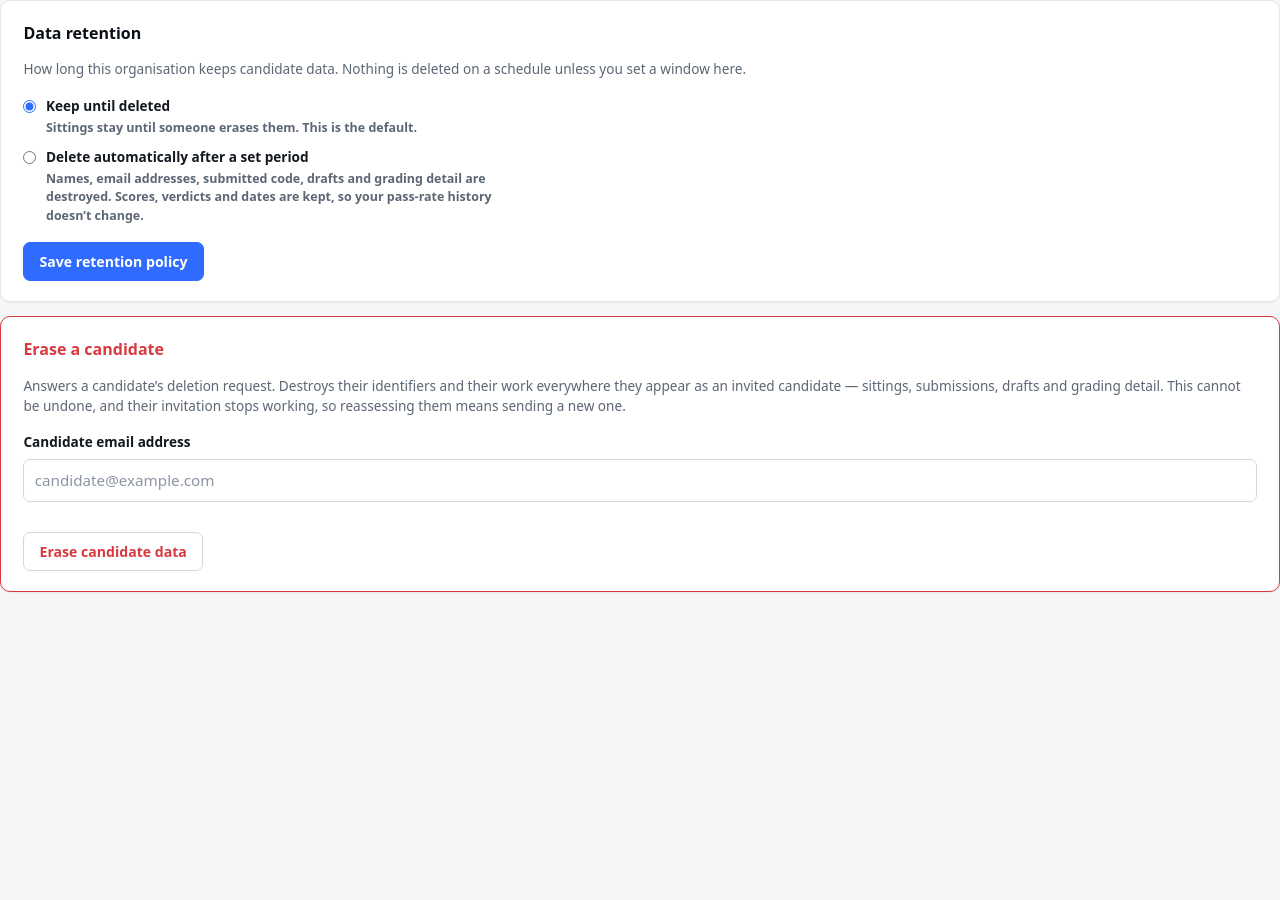
it: retention › refuses a window of zero before the round trip
Click the radio button labelled "Delete automatically".
click(30, 157)  # box [23,151,36,164]
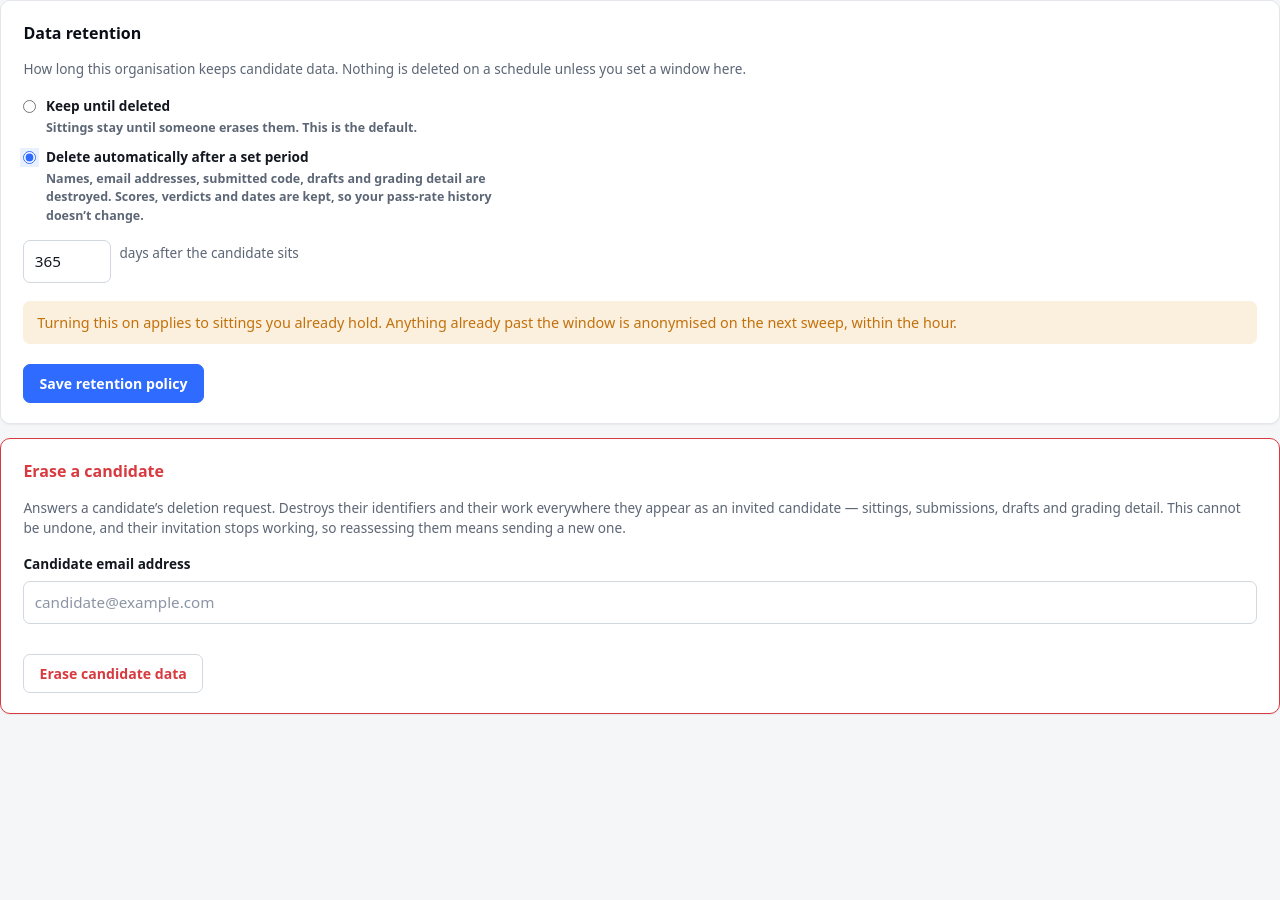
Replace the text in the number field named "retention period in days" with "0" at (67, 261), box [23,240,111,283]
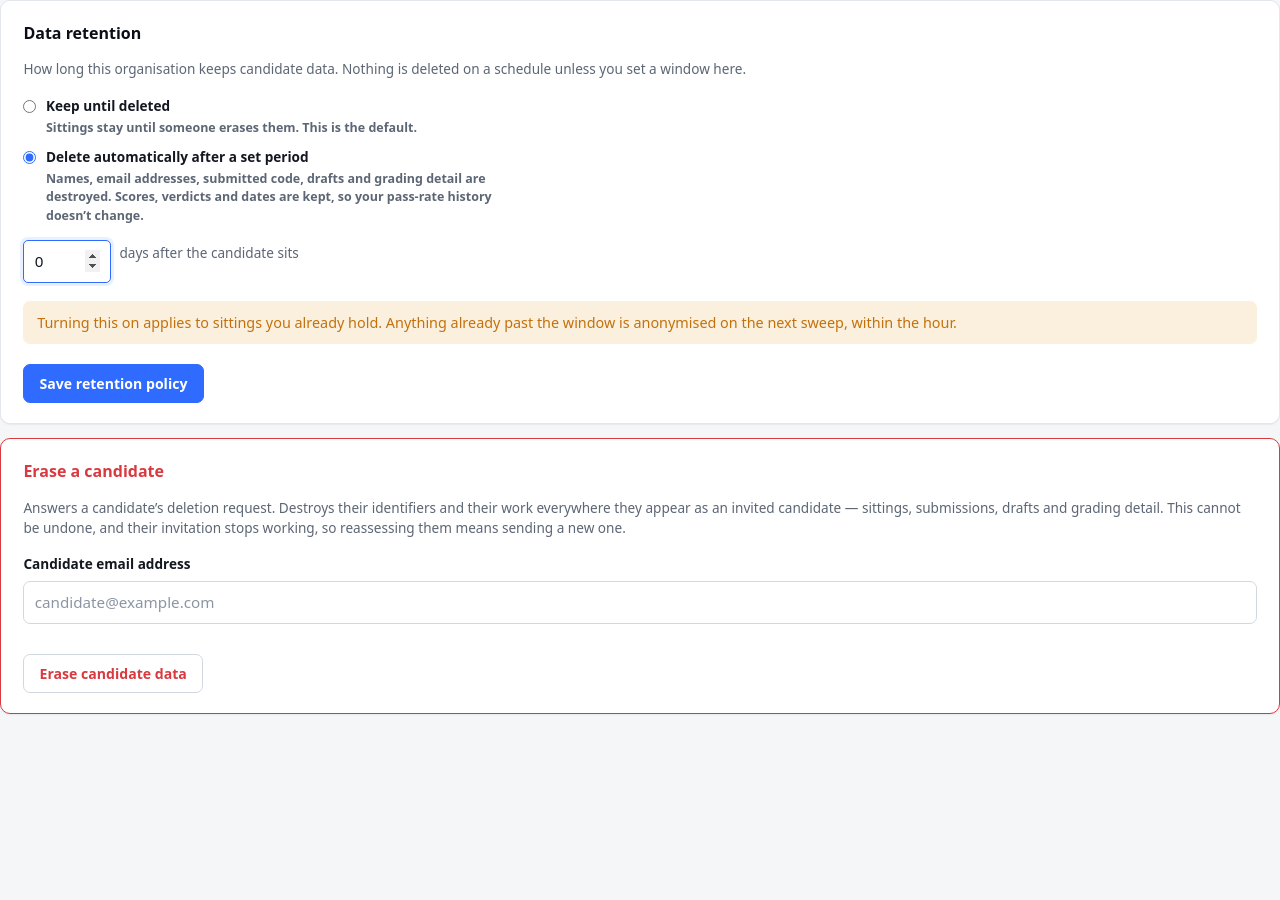
Click the button "Save retention policy".
click(114, 383)  # box [23,364,204,403]
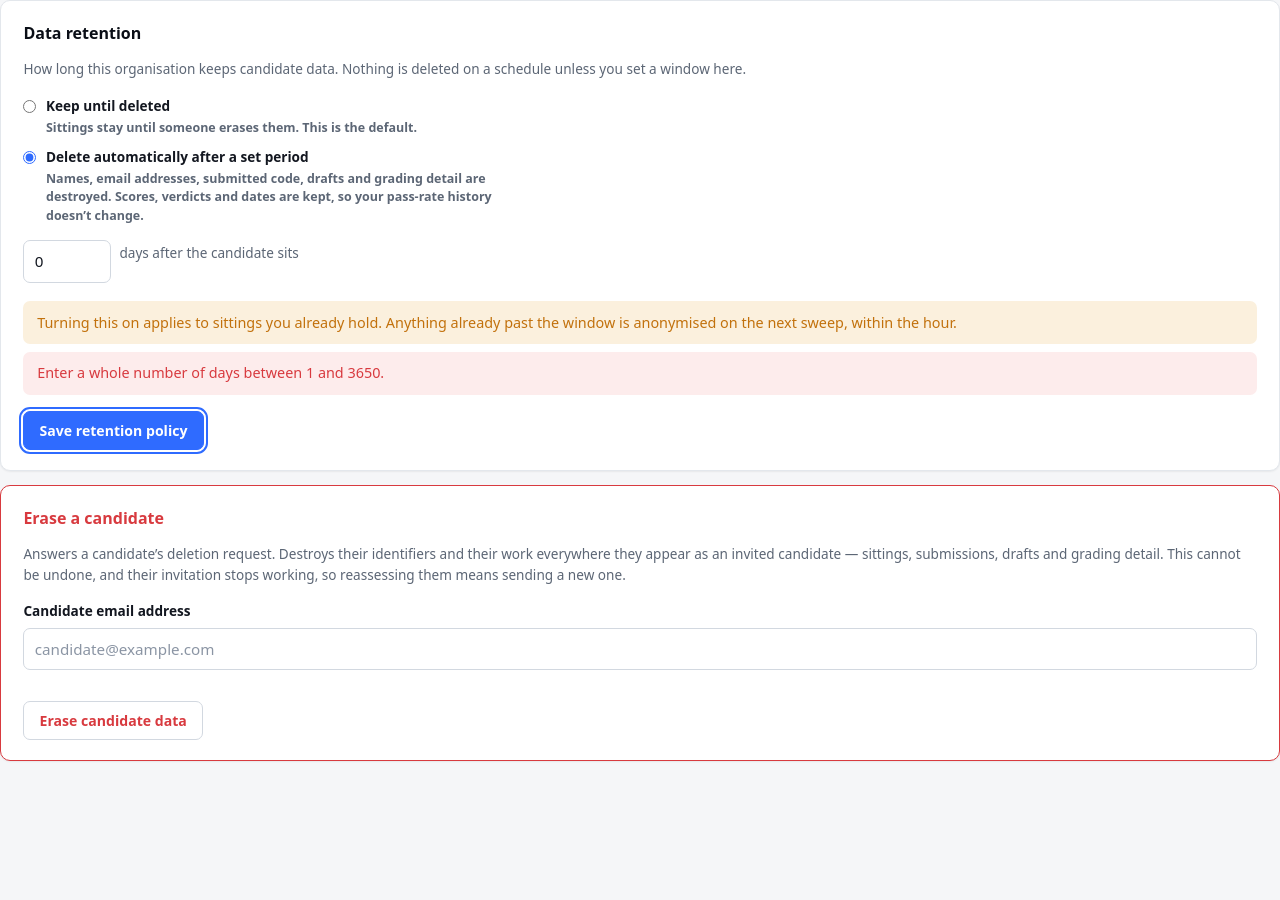
expect the message "Enter a whole number of days between 1 and 3650." is shown: met, box [23,352,1257,395]
